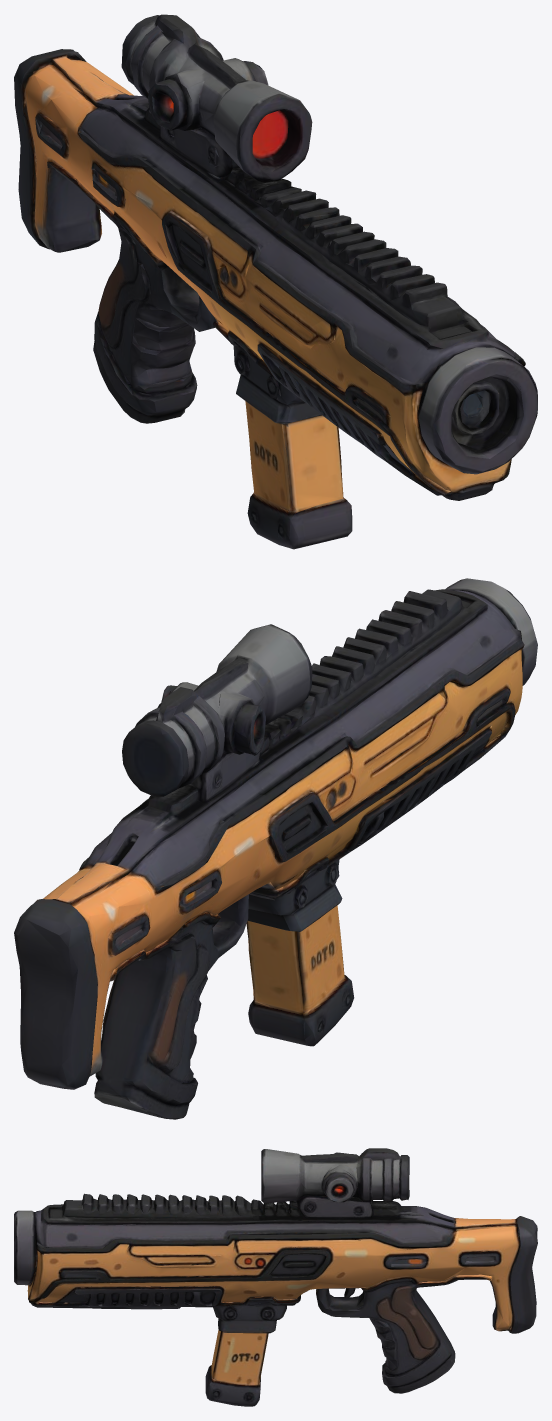
The model's file is blaster_x42.medium.glb.
3 views of the same model, one above another, from view 1: azimuth 30°, elevation 25°; view 2: azimuth 150°, elevation 25°; view 3: azimuth 270°, elevation 25° (orthographic). The views are drawn at different scales.
Parts seen in each view (by area): view 1: model; view 2: model; view 3: model.
Boxes of the visible parts, <box> form: model: <box>14,14,537,549</box>; model: <box>14,578,537,1119</box>; model: <box>14,1148,537,1406</box>.
Bounding box in the file's own units: 0.1172 × 0.3788 × 0.72.
1 material, 1 textured.
